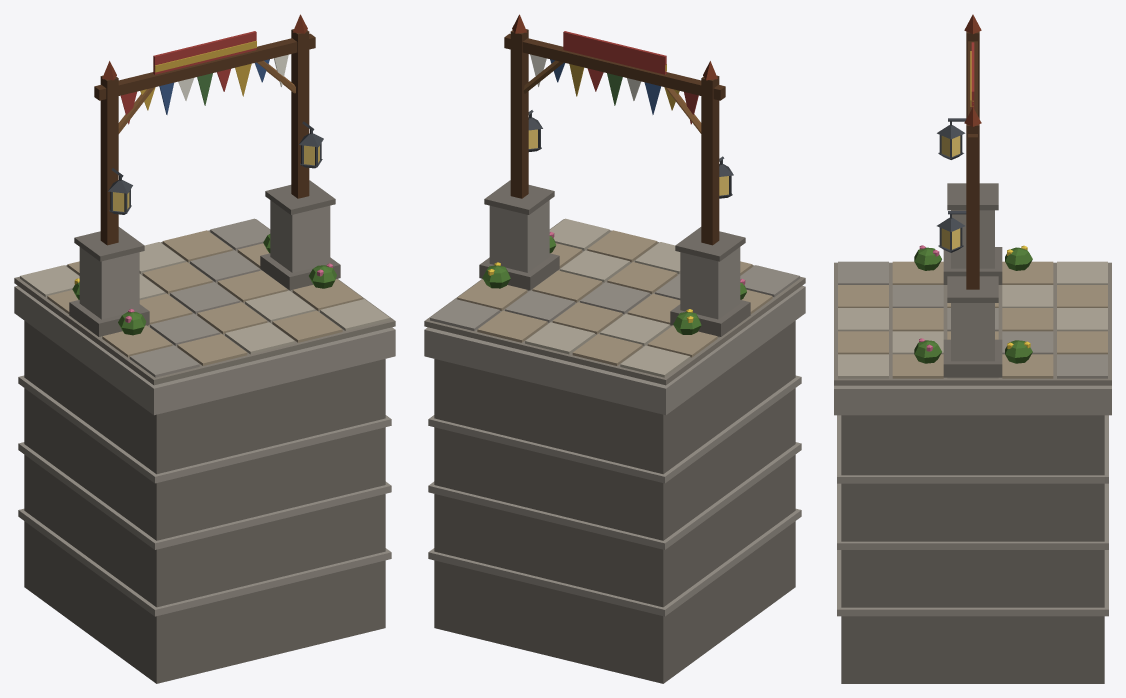
File: decor_banner_arch.glb
3 views of the same model, side by side, from view 1: azimuth 30°, elevation 25°; view 2: azimuth 150°, elevation 25°; view 3: azimuth 270°, elevation 25° (orthographic).
Visible parts, largest first — view 1: decor_banner_arch; view 2: decor_banner_arch; view 3: decor_banner_arch.
Boxes of the visible parts, x1,y1,x2,y2 form: decor_banner_arch: [14, 14, 395, 683]; decor_banner_arch: [424, 14, 805, 683]; decor_banner_arch: [834, 14, 1111, 683].
Size of the model in its own units: 3.8 by 8.57 by 3.8.
